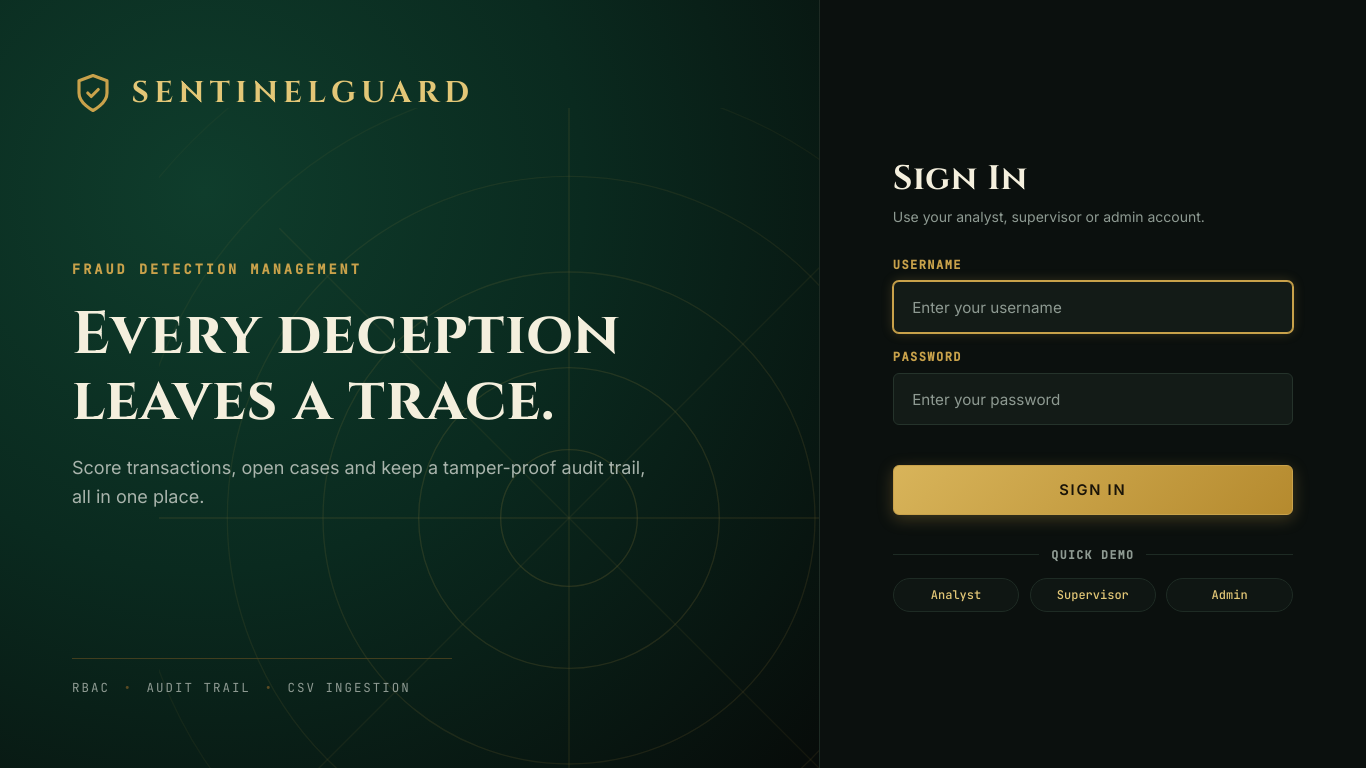
LoginPage › shows fallback error message when error has no specific message
Type "unknown_user" into the field with placeholder "Enter your username" at (1093,307), box [893,281,1293,333]
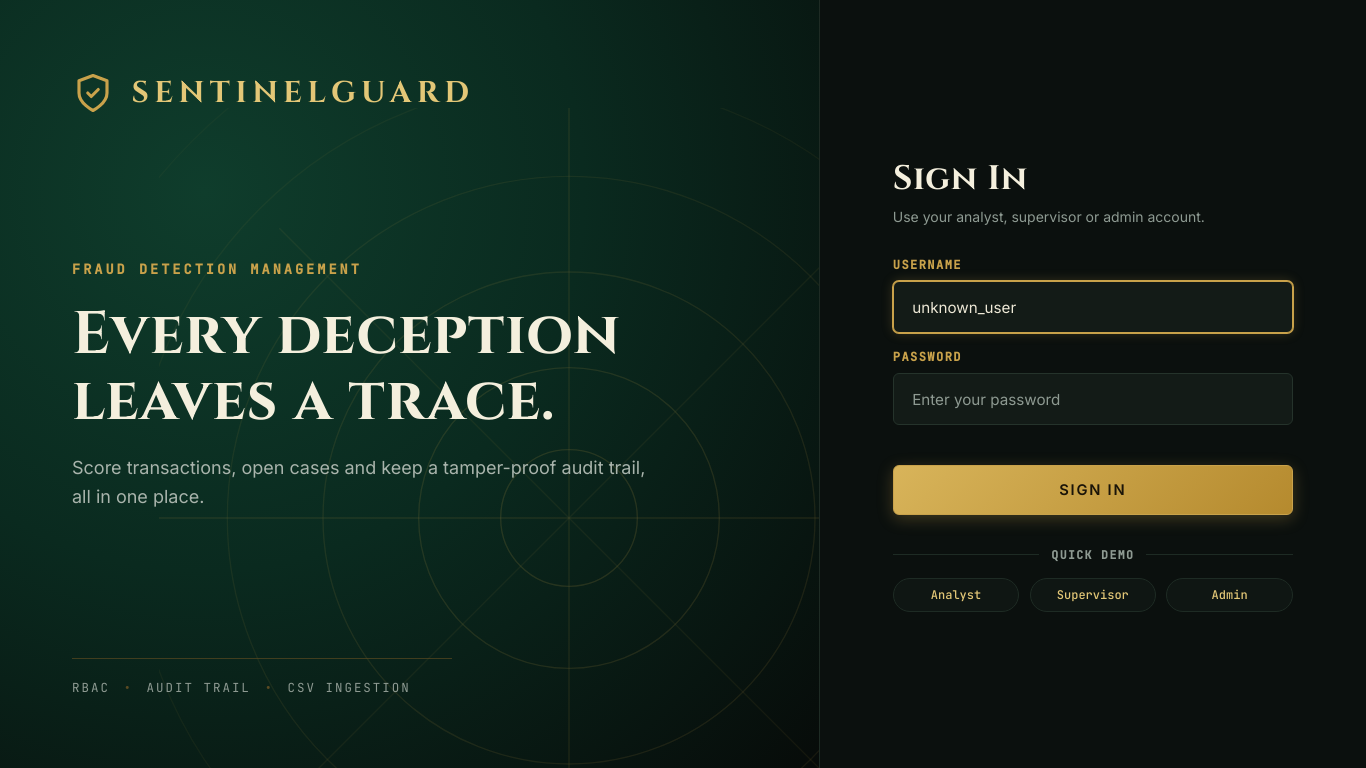
Type "unknown_pass" into the password field with placeholder "Enter your password" at (1093,399), box [893,373,1293,425]
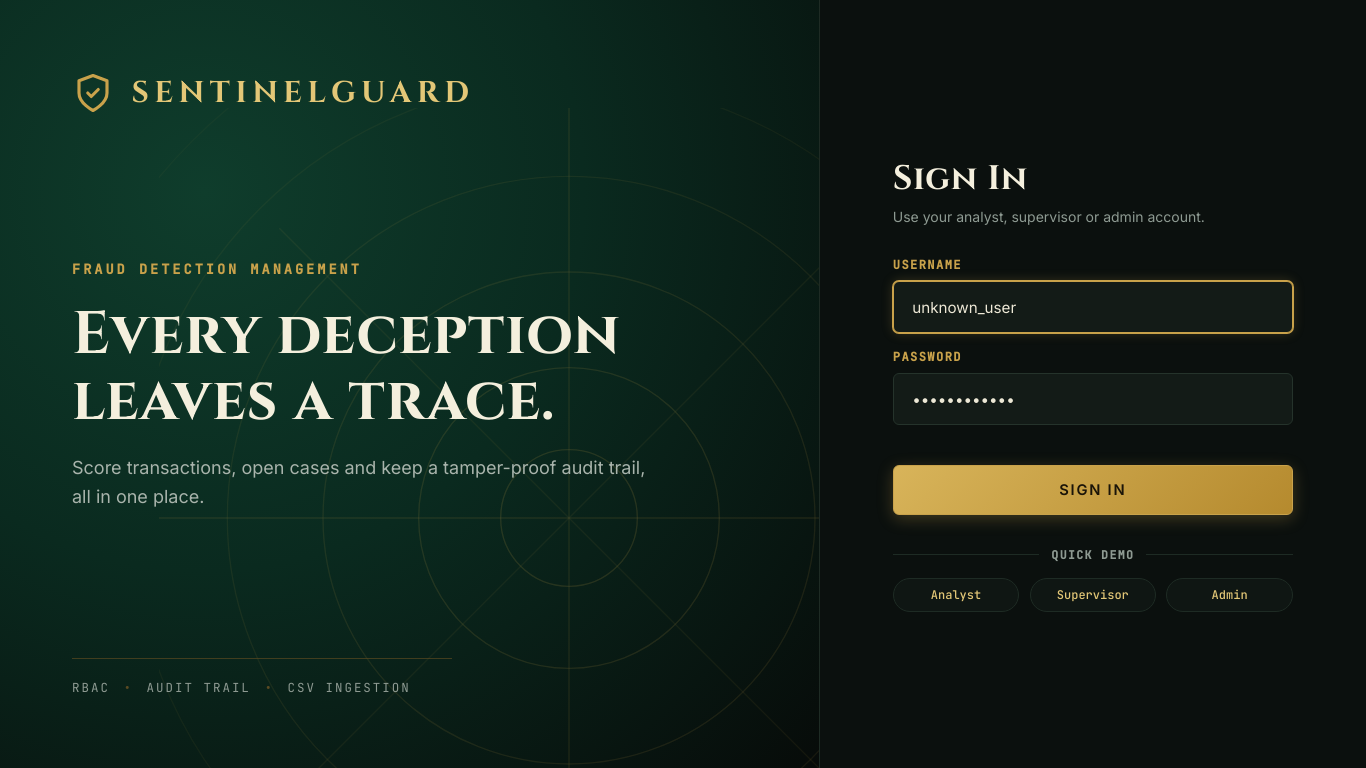
Click the button with aria-label "sign in to dashboard" at (1093,490), box [893,465,1293,515]
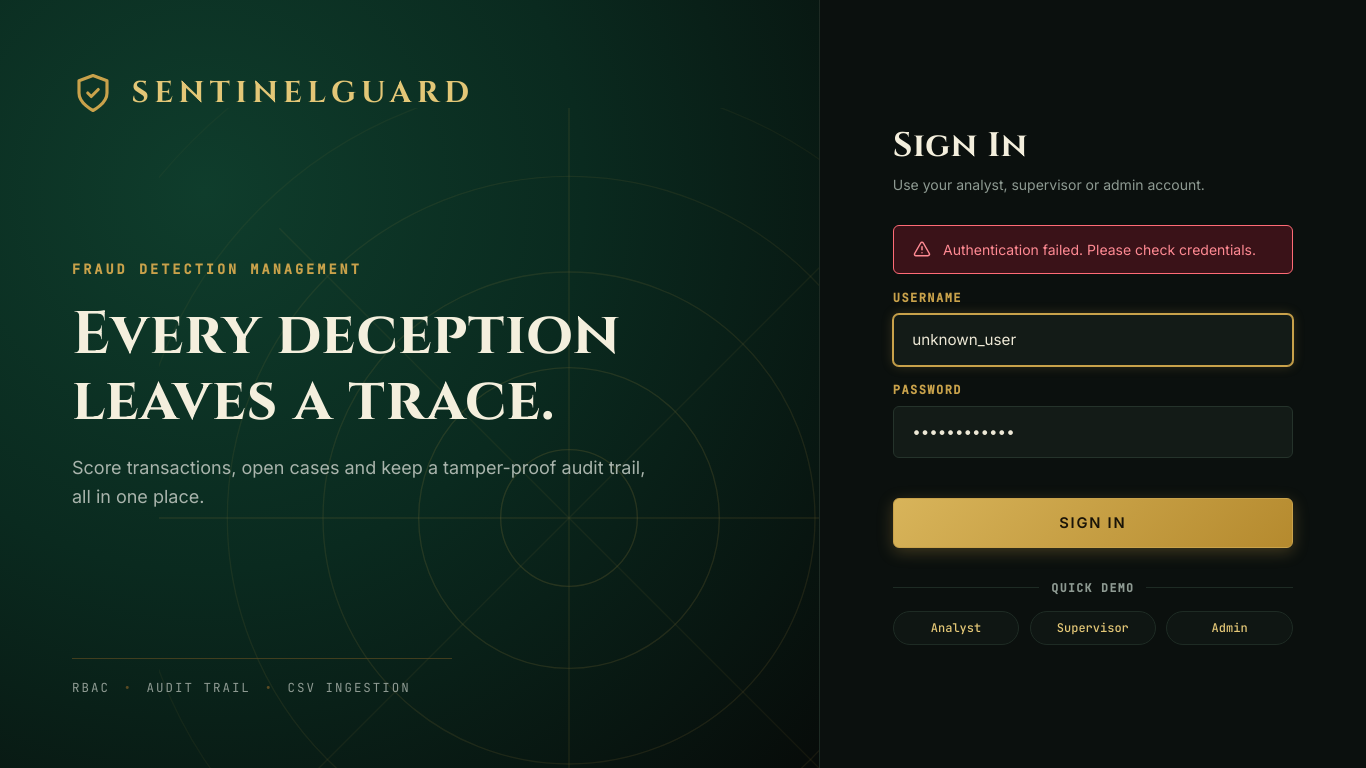
Now the text "Authentication failed. Please check credentials." is shown, box [943,241,1256,258]
